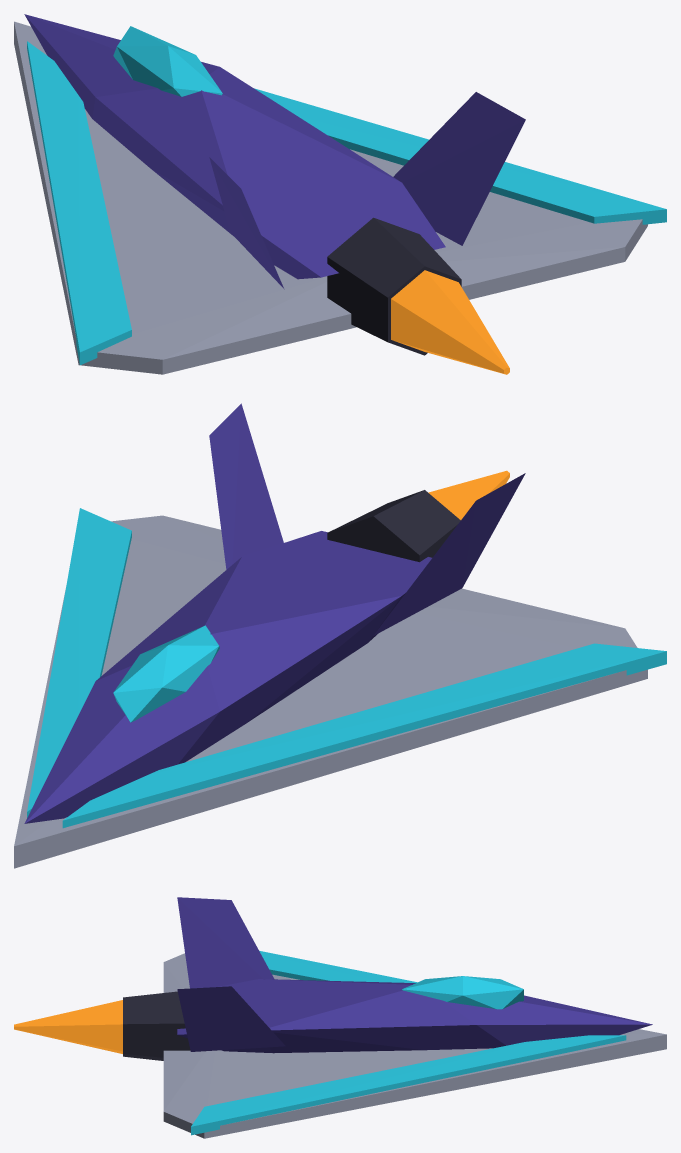
The model's file is ship_dart.glb.
3 views of the same model, one above another, from view 1: azimuth 30°, elevation 25°; view 2: azimuth 150°, elevation 25°; view 3: azimuth 270°, elevation 25° (orthographic). The views are drawn at different scales.
Parts seen in each view (by area): view 1: ship_dart, anim_flame; view 2: ship_dart, anim_flame; view 3: ship_dart, anim_flame.
Part boxes in pixels (x1,y1,x2,y2): ship_dart: (14, 14, 666, 374); anim_flame: (391, 270, 509, 374); ship_dart: (14, 403, 666, 868); anim_flame: (428, 470, 509, 519); ship_dart: (123, 897, 666, 1138); anim_flame: (14, 1000, 122, 1053).
Size of the model in its own units: 33 by 9.8 by 48.
2 materials, 2 textured.
